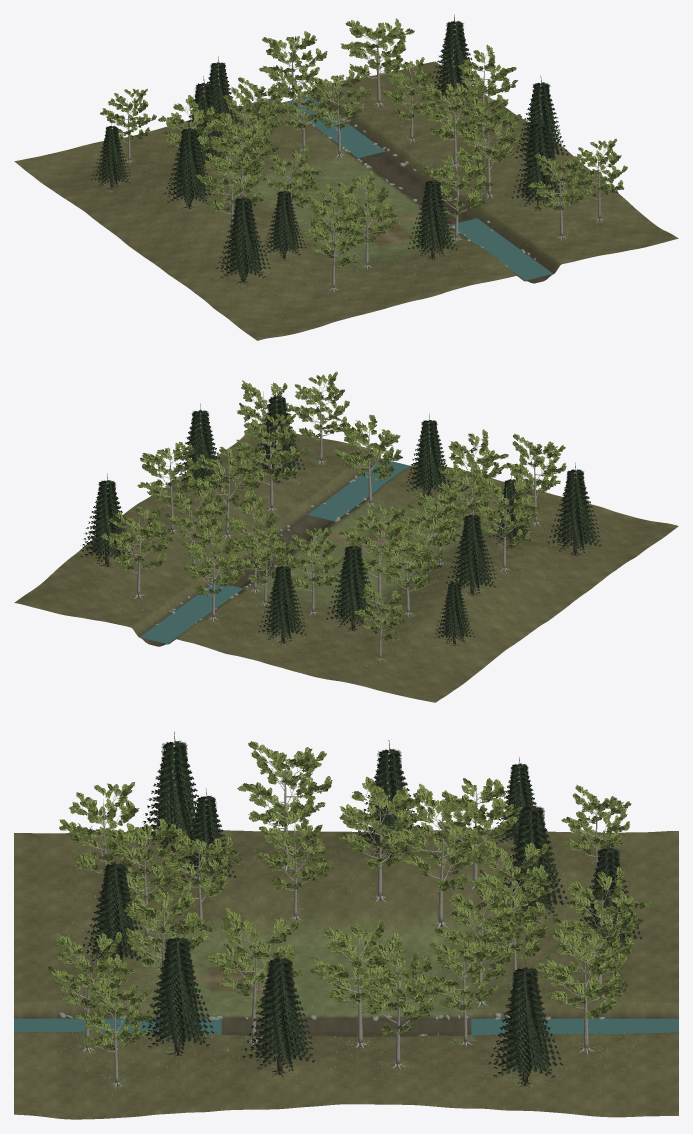
The model's file is landscape-hero.glb.
The picture shows the model from 3 angles, top to bottom: view 1: azimuth 30°, elevation 25°; view 2: azimuth 150°, elevation 25°; view 3: azimuth 270°, elevation 25°; orthographic projection. The views are drawn at different scales.
Parts seen in each view (by area): view 1: terrain_surface.001, river_surface_outside_wave_zone.001, spruce_16_foliage.001, aspen_29_foliage.001, birch_06_foliage.001, birch_23_foliage.001, birch_15_foliage.001, aspen_22_foliage.001, spruce_07_foliage.001, spruce_14_foliage.001, rooted_meadow_tussocks.001, aspen_13_foliage.001 (+23 smaller); view 2: terrain_surface.001, river_surface_outside_wave_zone.001, spruce_16_foliage.001, aspen_29_foliage.001, birch_23_foliage.001, birch_06_foliage.001, aspen_22_foliage.001, birch_20_foliage.001, aspen_13_foliage.001, spruce_07_foliage.001, spruce_09_foliage.001, spruce_28_foliage.001 (+23 smaller); view 3: terrain_surface.001, river_surface_outside_wave_zone.001, spruce_28_foliage.001, spruce_24_foliage.001, birch_00_foliage.001, aspen_29_foliage.001, spruce_26_foliage.001, birch_27_foliage.001, birch_06_foliage.001, rooted_meadow_tussocks.001, birch_23_foliage.001, spruce_16_foliage.001 (+34 smaller).
Boxes of the visible parts, x1,y1,x2,y2 form: terrain_surface.001: [14, 61, 678, 340]; river_surface_outside_wave_zone.001: [282, 96, 552, 280]; spruce_16_foliage.001: [216, 197, 270, 282]; aspen_29_foliage.001: [340, 18, 414, 78]; birch_06_foliage.001: [196, 141, 264, 212]; birch_23_foliage.001: [454, 98, 521, 164]; birch_15_foliage.001: [303, 198, 367, 267]; aspen_22_foliage.001: [419, 77, 489, 141]; spruce_07_foliage.001: [164, 128, 214, 207]; spruce_14_foliage.001: [408, 180, 457, 256]; rooted_meadow_tussocks.001: [79, 80, 633, 319]; aspen_13_foliage.001: [421, 147, 492, 216]; terrain_surface.001: [14, 424, 678, 702]; river_surface_outside_wave_zone.001: [140, 460, 410, 643]; spruce_16_foliage.001: [548, 469, 601, 552]; aspen_29_foliage.001: [101, 505, 174, 570]; birch_23_foliage.001: [233, 413, 307, 481]; birch_06_foliage.001: [475, 476, 541, 546]; aspen_22_foliage.001: [189, 443, 261, 511]; birch_20_foliage.001: [182, 521, 245, 596]; aspen_13_foliage.001: [333, 414, 402, 480]; spruce_07_foliage.001: [446, 514, 496, 593]; spruce_09_foliage.001: [326, 545, 378, 627]; spruce_28_foliage.001: [80, 480, 134, 564]; terrain_surface.001: [14, 829, 678, 1119]; river_surface_outside_wave_zone.001: [14, 1018, 678, 1035]; spruce_28_foliage.001: [488, 967, 562, 1083]; spruce_24_foliage.001: [140, 936, 214, 1052]; birch_00_foliage.001: [390, 784, 489, 894]; aspen_29_foliage.001: [534, 928, 627, 1019]; spruce_26_foliage.001: [243, 958, 314, 1071]; birch_27_foliage.001: [355, 932, 445, 1036]; birch_06_foliage.001: [237, 741, 332, 827]; rooted_meadow_tussocks.001: [55, 845, 637, 1097]; birch_23_foliage.001: [207, 907, 304, 1011]; spruce_16_foliage.001: [139, 740, 205, 850].
Size of the model in its own units: 48 by 12.29 by 48.
9 materials, 6 textured.
